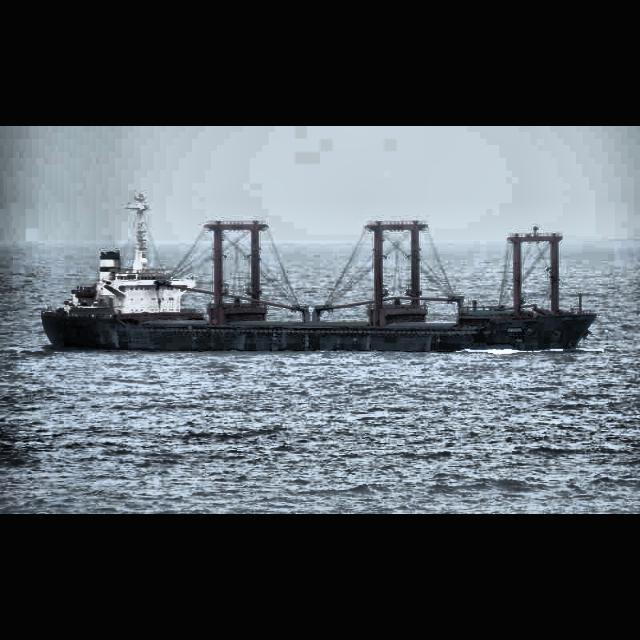bulk_carrier: (39, 190, 597, 354)
